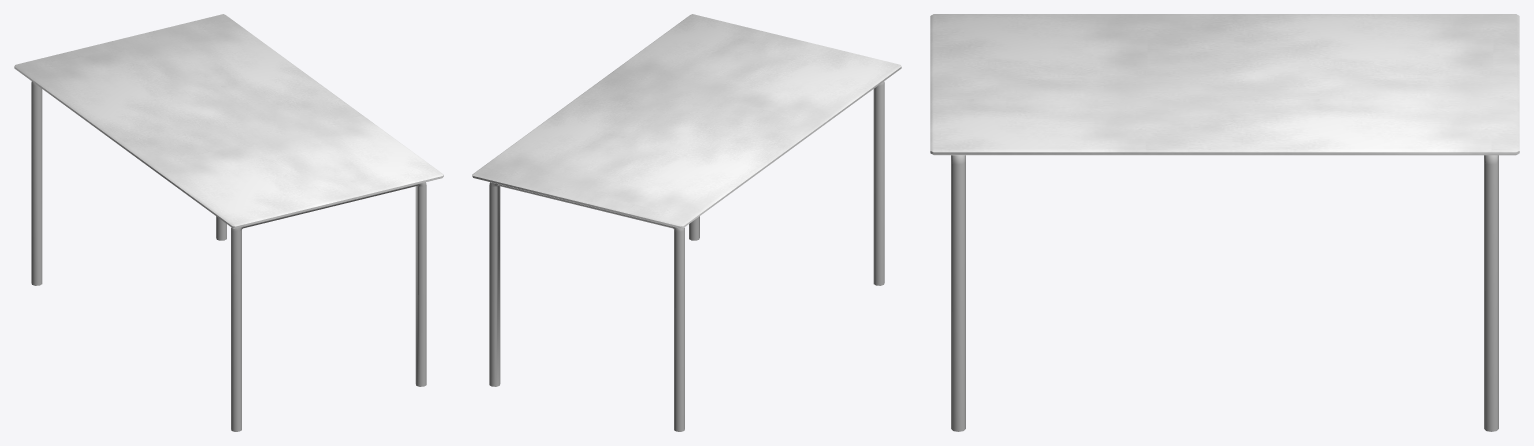
The model's file is table_1.fbx.
The picture shows the model from 3 angles, left to right: view 1: azimuth 30°, elevation 25°; view 2: azimuth 150°, elevation 25°; view 3: azimuth 270°, elevation 25°; orthographic projection. The views are drawn at different scales.
Parts seen in each view (by area): view 1: table_1; view 2: table_1; view 3: table_1.
Part boxes in pixels (x1,y1,x2,y2): table_1: (14, 14, 443, 431); table_1: (472, 14, 901, 431); table_1: (930, 14, 1519, 431).
Size of the model in its own units: 1.32 by 1.28 by 2.38.
